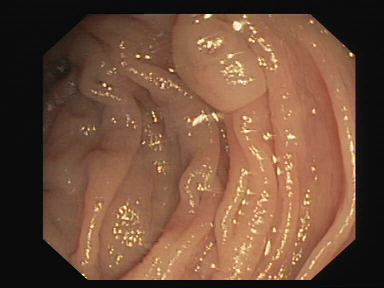polyp: (154, 15, 274, 134)
